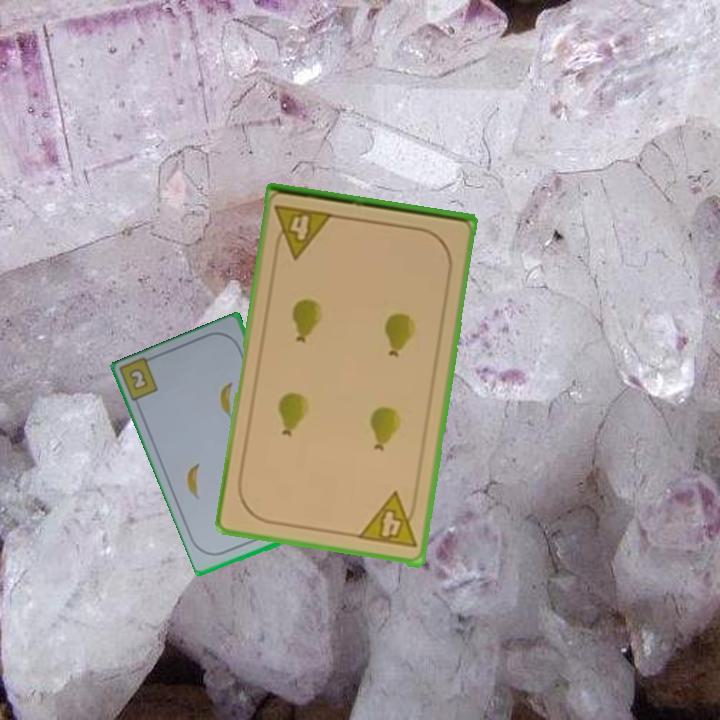2b: (126, 365, 151, 393)
4p: (354, 490, 421, 552), (271, 201, 337, 262)
